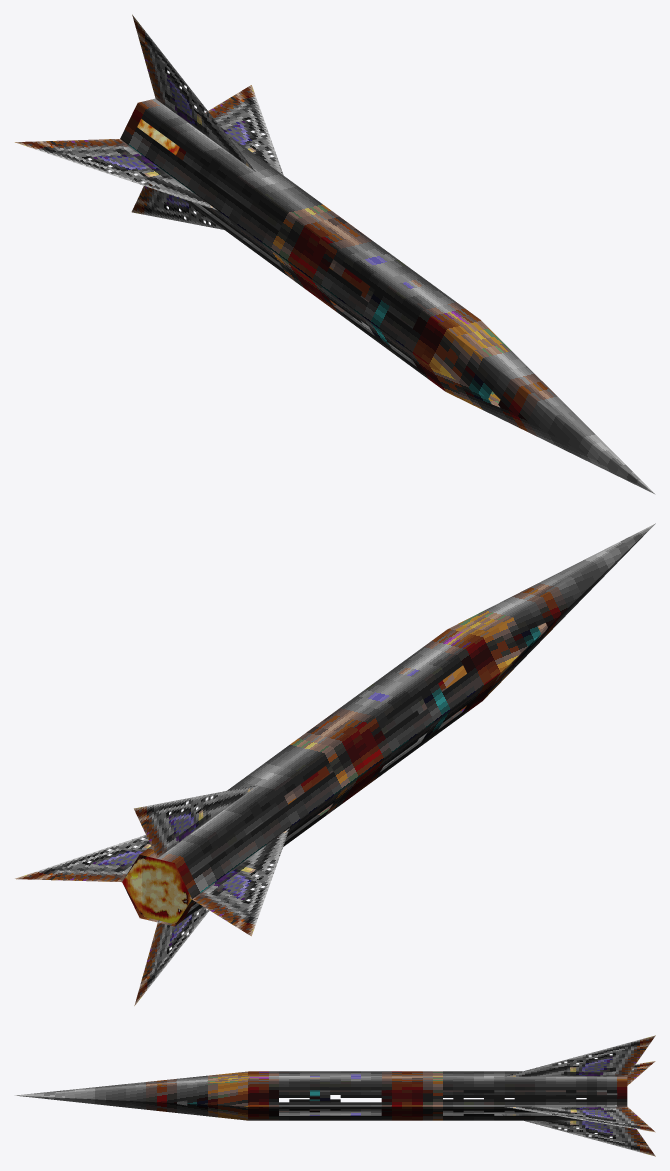
Rendered from missile.obj.
3 renders of one model, top to bottom at view 1: azimuth 30°, elevation 25°; view 2: azimuth 150°, elevation 25°; view 3: azimuth 270°, elevation 25°, orthographic. The views are drawn at different scales.
Bounding box in the file's own units: 0.9181 × 0.7309 × 3.5.
Materials: 3 (3 with a texture image).
